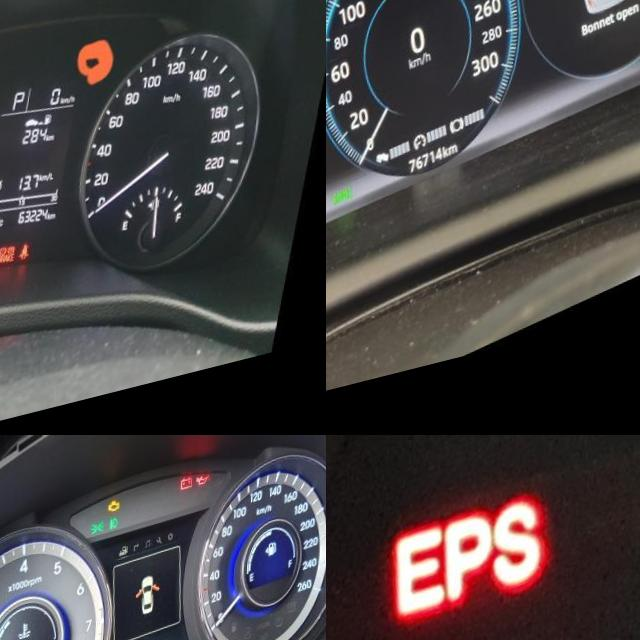FrontFogLight: (110, 528, 120, 542)
SideLamp: (334, 195, 358, 219), (92, 532, 106, 547)
